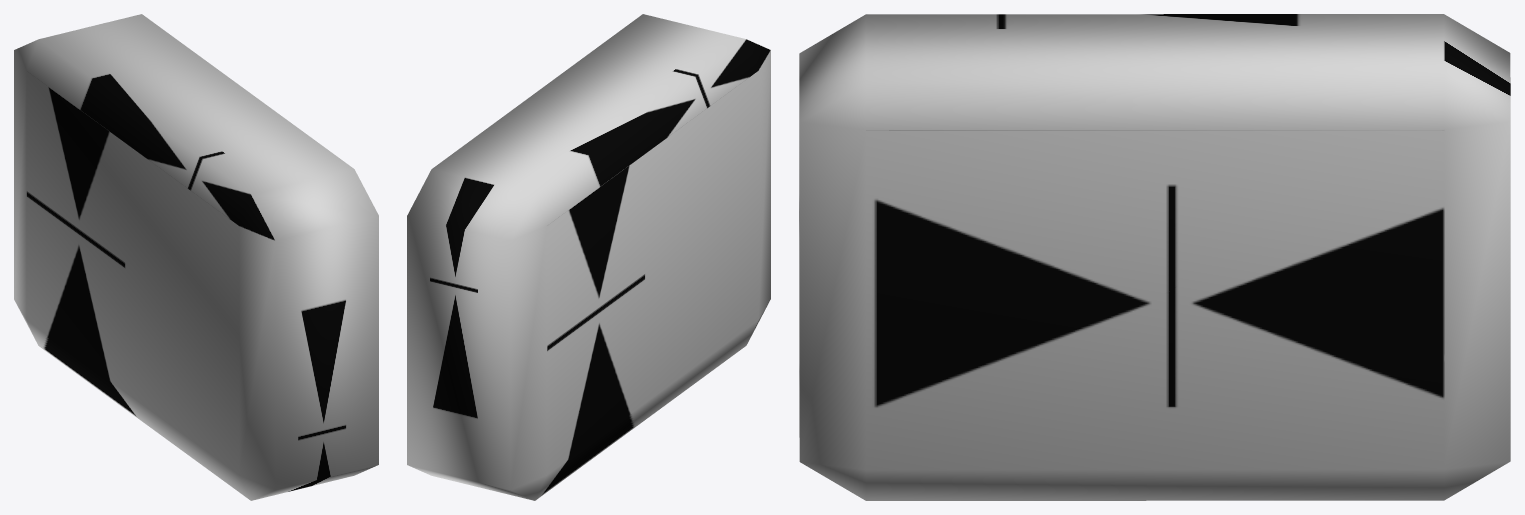
The model's file is CerrarAscensor.fbx.
The picture shows the model from 3 angles, left to right: view 1: azimuth 30°, elevation 25°; view 2: azimuth 150°, elevation 25°; view 3: azimuth 270°, elevation 25°; orthographic projection. The views are drawn at different scales.
Parts seen in each view (by area): view 1: BotonCerrar; view 2: BotonCerrar; view 3: BotonCerrar.
Part boxes in pixels (x1,y1,x2,y2): BotonCerrar: (14,14,378,500); BotonCerrar: (407,14,770,500); BotonCerrar: (799,14,1510,500).
Size of the model in its own units: 1.36 by 3.12 by 4.81.
